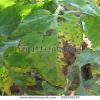Tomato leaf bacterial spot: (10, 6, 83, 92), (1, 46, 45, 94)
